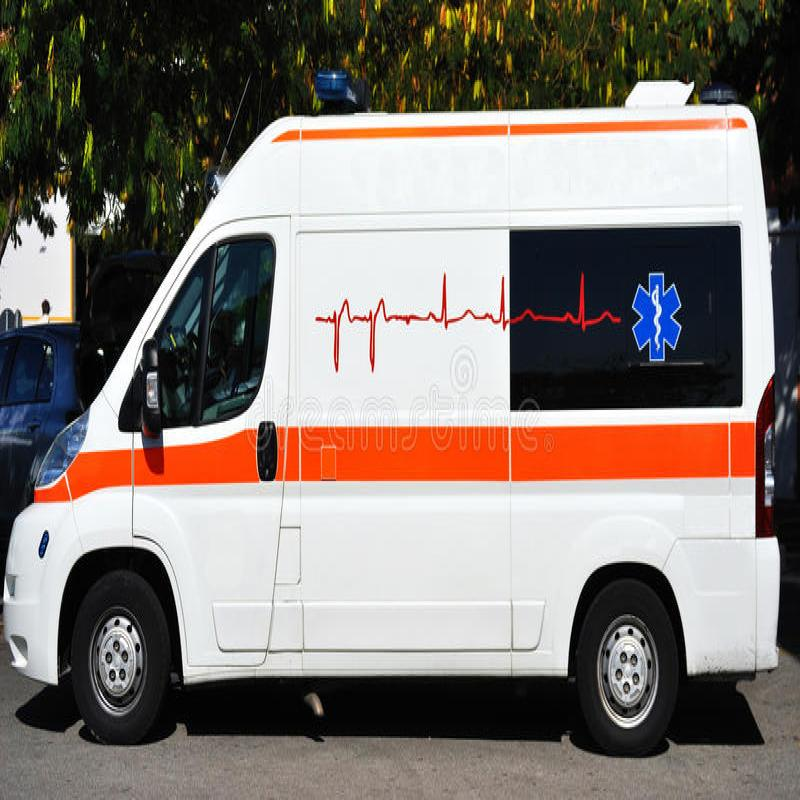ambulance: (19, 59, 764, 754)
